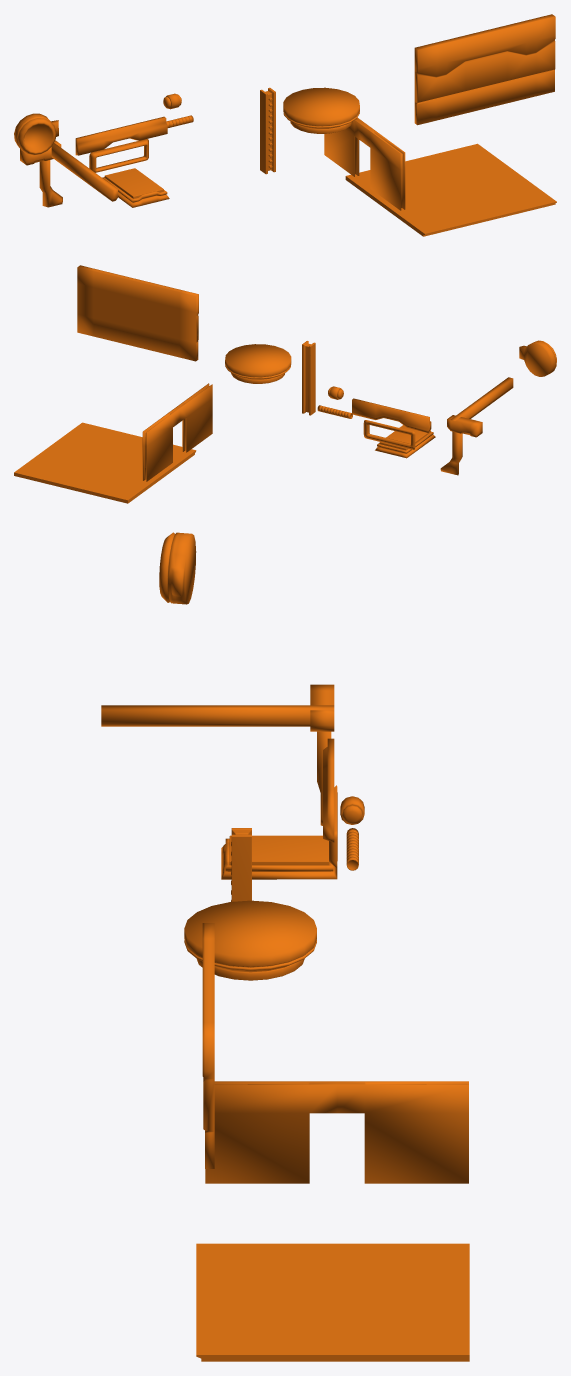
The model's file is Spaceship.FBX.
3 renders of one model, top to bottom at view 1: azimuth 30°, elevation 25°; view 2: azimuth 150°, elevation 25°; view 3: azimuth 270°, elevation 25°, orthographic. The views are drawn at different scales.
Visible parts, largest first — view 1: Object031, Object011, Object032, Object021, Pillar, Misc, Gate, Object030, Matress_low, Object026, Object027; view 2: Object031, Object011, Object032, Object021, Pillar, Misc, Gate, Object030, Object026, Object027, Matress_low; view 3: Object011, Object032, Object021, Pillar, Object031, Matress_low, Gate, Object027, Object030, Misc.
Part boxes in pixels (left/top/right/bottom): Object031: left=414, top=14, right=555, bottom=125; Object011: left=345, top=143, right=556, bottom=236; Object032: left=324, top=117, right=405, bottom=210; Object021: left=283, top=87, right=359, bottom=133; Pillar: left=20, top=140, right=117, bottom=207; Misc: left=75, top=116, right=167, bottom=155; Gate: left=14, top=113, right=58, bottom=155; Object030: left=260, top=87, right=275, bottom=174; Matress_low: left=104, top=168, right=163, bottom=198; Object026: left=89, top=139, right=148, bottom=172; Object027: left=102, top=177, right=169, bottom=207; Object031: left=77, top=265, right=198, bottom=361; Object011: left=14, top=422, right=196, bottom=503; Object032: left=142, top=383, right=212, bottom=481; Object021: left=225, top=344, right=291, bottom=383; Pillar: left=440, top=377, right=513, bottom=475; Misc: left=352, top=398, right=431, bottom=432; Gate: left=519, top=340, right=556, bottom=376; Object030: left=302, top=341, right=315, bottom=415; Object026: left=363, top=420, right=415, bottom=449; Object027: left=375, top=431, right=435, bottom=458; Matress_low: left=379, top=425, right=430, bottom=450; Object011: left=196, top=1243, right=469, bottom=1361; Object032: left=205, top=1081, right=468, bottom=1183; Object021: left=184, top=900, right=316, bottom=980; Pillar: left=101, top=684, right=334, bottom=825; Object031: left=202, top=923, right=214, bottom=1168; Matress_low: left=229, top=835, right=329, bottom=865; Gate: left=159, top=532, right=196, bottom=604; Object027: left=221, top=838, right=337, bottom=879; Object030: left=231, top=828, right=251, bottom=901; Misc: left=323, top=738, right=334, bottom=842.
Size of the model in its own units: 1645 by 639 by 558.
